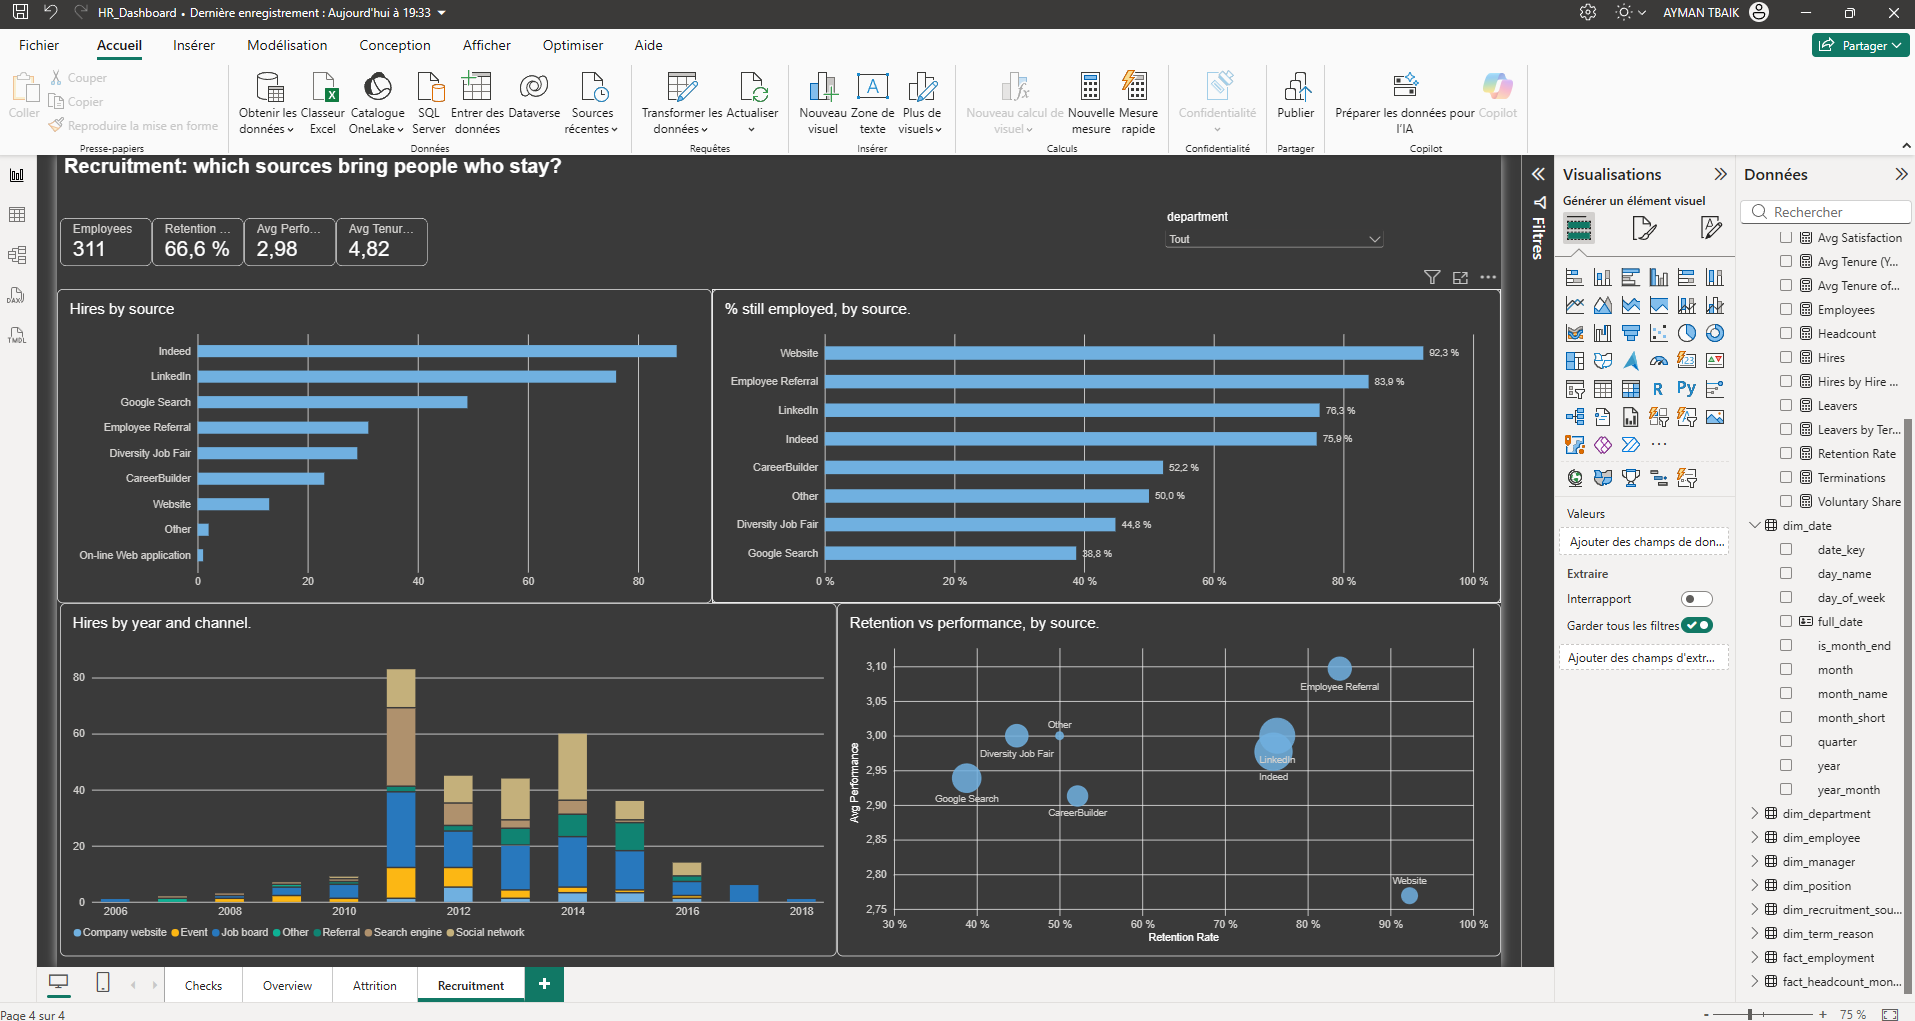

The page's visual inventory and layout, read from the dashboard file:
{"tool":"powerbi","page":{"name":"Recruitment","canvas":[1920,1080],"ordinal":3},"visuals":[{"type":"shape","box":[0,0,1920,96],"z":0},{"type":"cardVisual","fields":{"Data":["_Measures.Employees"]},"box":[36,120,444,135],"z":3000},{"type":"cardVisual","fields":{"Data":["_Measures.Retention Rate"]},"box":[504,120,444,135],"z":4000},{"type":"cardVisual","fields":{"Data":["_Measures.Avg Performance"]},"box":[972,120,444,135],"z":5000},{"type":"cardVisual","fields":{"Data":["_Measures.Avg Tenure (Years)"]},"box":[1440,120,444,135],"z":6000},{"type":"clusteredBarChart","title":"Hires by source","fields":{"Category":["dim_recruitment_source.recruitment_source"],"Y":["_Measures.Employees"]},"box":[36,279,912,377],"z":7000},{"type":"clusteredBarChart","title":"% still employed, by source.","fields":{"Category":["dim_recruitment_source.recruitment_source"],"Y":["_Measures.Retention Rate"]},"box":[972,279,912,377],"z":8000},{"type":"columnChart","title":"Hires by year and channel.","fields":{"Category":["dim_date.year"],"Series":["dim_recruitment_source.recruitment_channel"],"Y":["_Measures.Hires by Hire Date"]},"box":[36,680,912,377],"z":9000},{"type":"scatterChart","title":"Retention vs performance, by source.","fields":{"Category":["dim_recruitment_source.recruitment_source"],"Size":["_Measures.Employees"],"X":["_Measures.Retention Rate"],"Y":["_Measures.Avg Performance"]},"box":[972,680,883,377],"z":10000},{"type":"slicer","fields":{"Values":["dim_date.year"]},"box":[1644,12,240,72],"z":10001},{"type":"slicer","fields":{"Values":["dim_department.department_name"]},"box":[1320,12,300,72],"z":10002}]}

Visuals, with their boxes on the page's 1920x1080 design canvas (x1, y1, x2, y2). These are canvas units, not pixel positions in the 1915x1021 screenshot, which may show the page scaled, cropped or inside an application window:
shape: region(0, 0, 1920, 96)
cardVisual - _Measures.Employees: region(36, 120, 480, 255)
cardVisual - _Measures.Retention Rate: region(504, 120, 948, 255)
cardVisual - _Measures.Avg Performance: region(972, 120, 1416, 255)
cardVisual - _Measures.Avg Tenure (Years): region(1440, 120, 1884, 255)
"Hires by source" clusteredBarChart: region(36, 279, 948, 656)
"% still employed, by source." clusteredBarChart: region(972, 279, 1884, 656)
"Hires by year and channel." columnChart: region(36, 680, 948, 1057)
"Retention vs performance, by source." scatterChart: region(972, 680, 1855, 1057)
slicer - dim_date.year: region(1644, 12, 1884, 84)
slicer - dim_department.department_name: region(1320, 12, 1620, 84)
